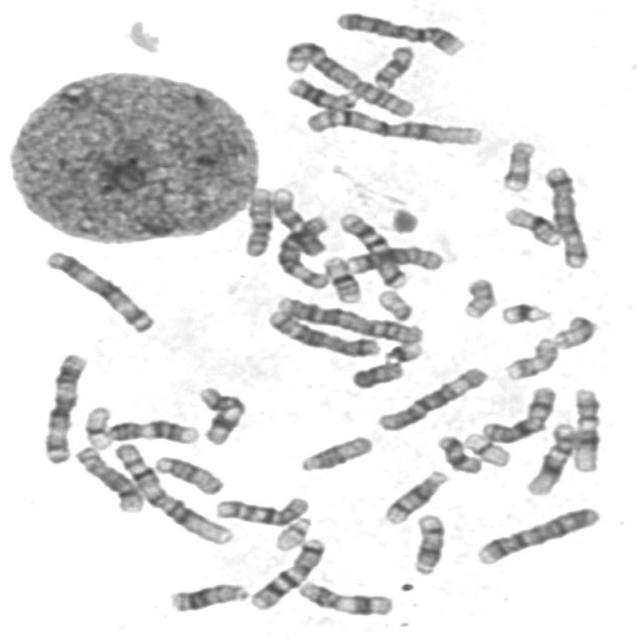A1: (106, 437, 235, 547), (298, 101, 486, 148)
A2: (276, 35, 416, 119), (270, 291, 426, 345)
A3: (36, 244, 158, 334), (36, 348, 90, 465)
B4: (469, 501, 604, 567), (329, 5, 468, 57)
B5: (261, 305, 382, 358), (538, 160, 592, 270)
C10: (208, 491, 311, 527), (237, 182, 275, 258)
C11: (292, 576, 396, 617), (191, 382, 249, 447)
C12: (520, 417, 580, 497), (566, 382, 604, 473)
C6: (370, 361, 490, 434), (270, 210, 333, 290)
C7: (244, 532, 328, 611), (332, 207, 410, 290)
C8: (68, 439, 146, 514), (340, 240, 446, 276)
C9: (265, 187, 328, 260), (101, 413, 202, 446)
D13: (280, 71, 362, 112), (162, 577, 251, 614)
D14: (377, 464, 450, 526), (406, 509, 448, 577)
D15: (292, 429, 375, 474), (148, 449, 226, 496)
E16: (498, 200, 565, 248), (316, 251, 364, 305)
E17: (498, 332, 561, 382), (495, 134, 538, 194)
E18: (366, 40, 416, 90), (432, 430, 484, 475)
F19: (458, 427, 513, 468), (77, 400, 115, 451)
F20: (550, 308, 604, 351), (456, 272, 499, 320)
G21: (494, 296, 554, 326), (377, 336, 426, 364)
G22: (267, 511, 315, 553), (371, 284, 416, 322)
X: (475, 380, 559, 445)
Y: (346, 356, 406, 391)
